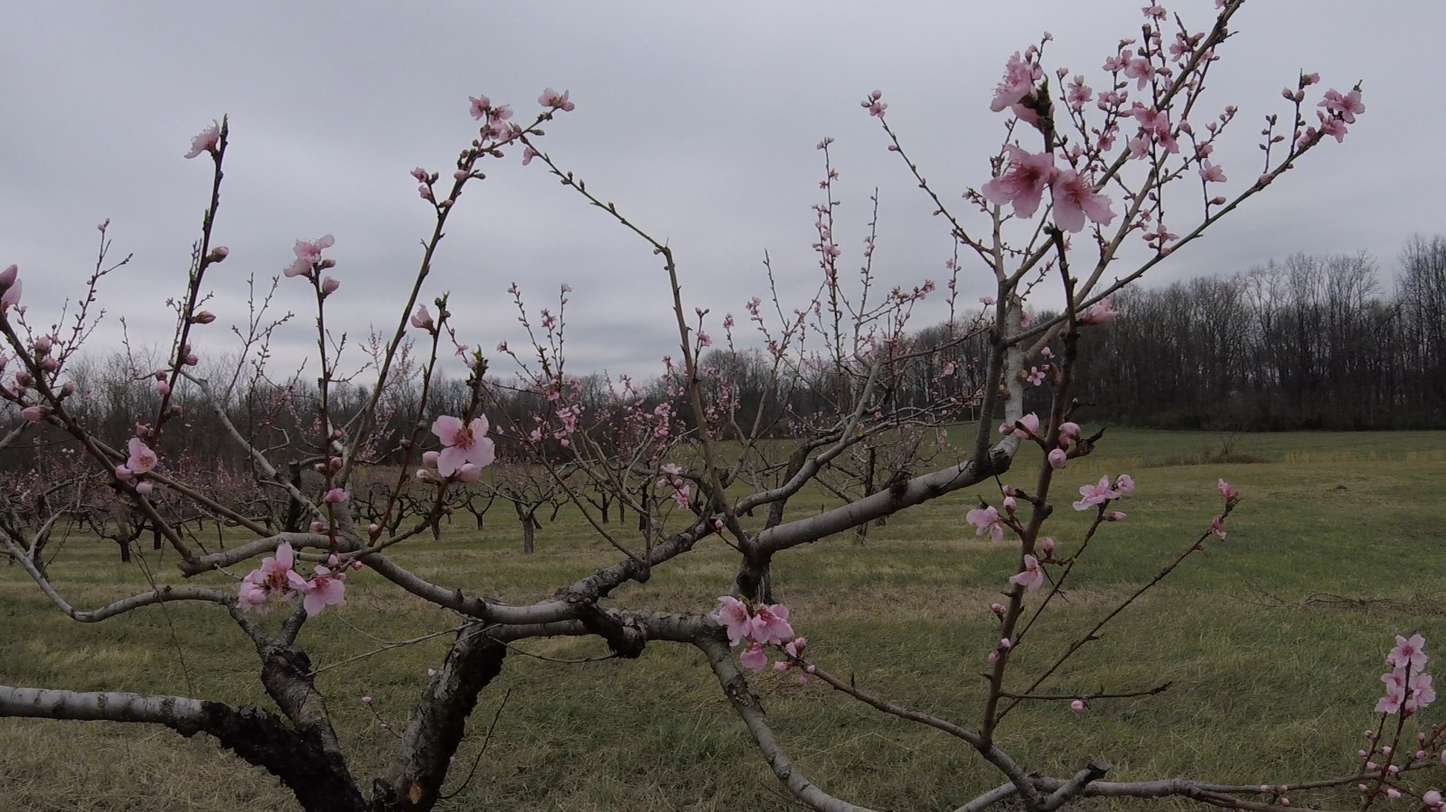flower: (978, 140, 1118, 234), (1092, 39, 1192, 163), (232, 542, 350, 618), (707, 595, 808, 675), (990, 45, 1048, 145), (423, 414, 497, 487), (1375, 635, 1437, 714), (1317, 80, 1366, 144), (114, 437, 162, 488), (1073, 475, 1136, 511), (284, 235, 335, 278), (1048, 423, 1081, 474), (183, 119, 224, 159), (1010, 554, 1045, 600), (967, 507, 1007, 543), (486, 104, 520, 143), (1068, 75, 1093, 122), (861, 80, 890, 120), (1081, 297, 1121, 326), (0, 265, 23, 308), (22, 398, 55, 427), (539, 88, 576, 112), (1142, 0, 1168, 34), (1199, 156, 1227, 183), (151, 370, 174, 400), (1169, 33, 1190, 62), (469, 95, 492, 121), (806, 665, 838, 683), (411, 304, 434, 329), (1423, 791, 1446, 812), (16, 365, 37, 387), (1023, 367, 1046, 387), (1019, 413, 1039, 436), (0, 351, 19, 375), (1195, 47, 1215, 69), (322, 276, 340, 297), (325, 489, 352, 503), (454, 164, 473, 183), (190, 311, 217, 324), (1068, 143, 1085, 163), (1218, 479, 1235, 499), (410, 167, 431, 183), (1209, 188, 1226, 206), (136, 481, 154, 498), (418, 185, 434, 204), (523, 147, 538, 166), (800, 674, 821, 687), (35, 334, 52, 350), (1103, 512, 1127, 522), (1040, 537, 1056, 552), (774, 662, 793, 674), (1051, 67, 1069, 79), (1302, 73, 1320, 84), (1157, 219, 1168, 237), (1004, 497, 1018, 511), (1063, 233, 1072, 254), (1013, 429, 1029, 440), (1199, 145, 1214, 156), (1072, 701, 1086, 712), (1166, 233, 1180, 242), (510, 123, 522, 133), (1215, 0, 1226, 10), (1206, 122, 1217, 132), (487, 90, 493, 96), (1212, 57, 1220, 61), (1300, 69, 1303, 79), (1090, 151, 1097, 155), (841, 685, 847, 688)
